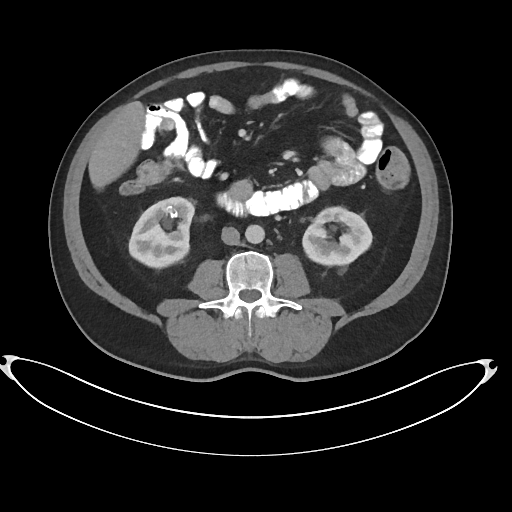Lesion: (161, 200, 184, 220)
